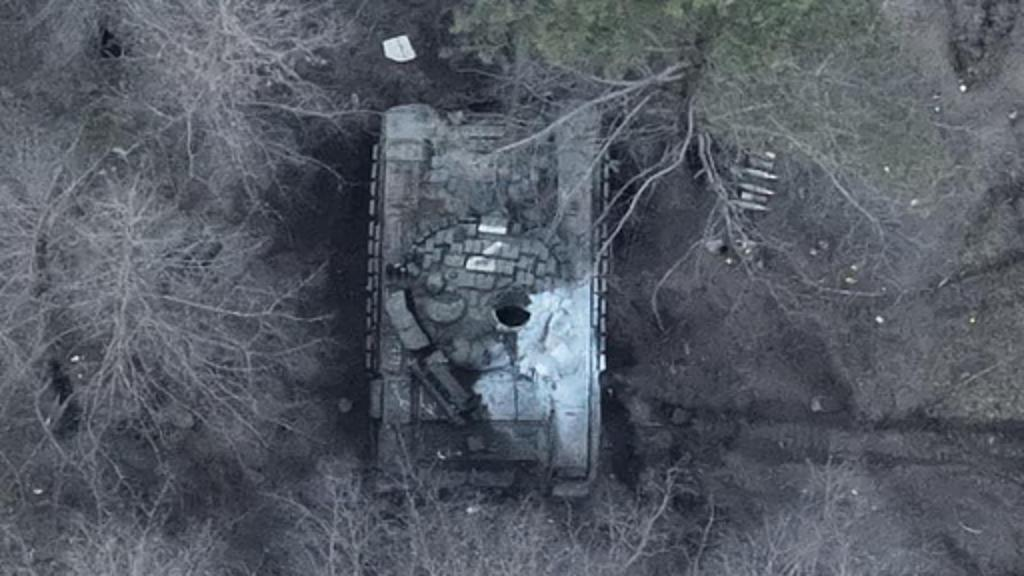TANK: (354, 10, 618, 514)
